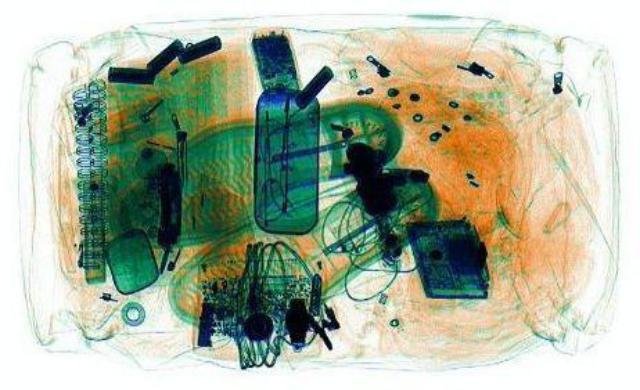Gun: (342, 137, 430, 217)
